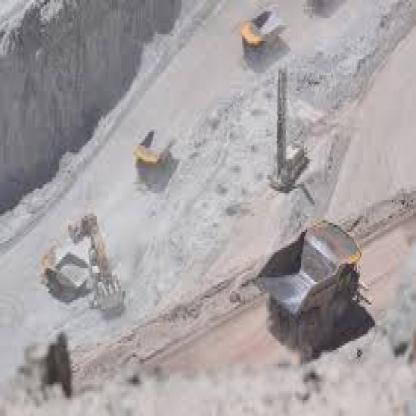dump_truck: (256, 207, 376, 352)
